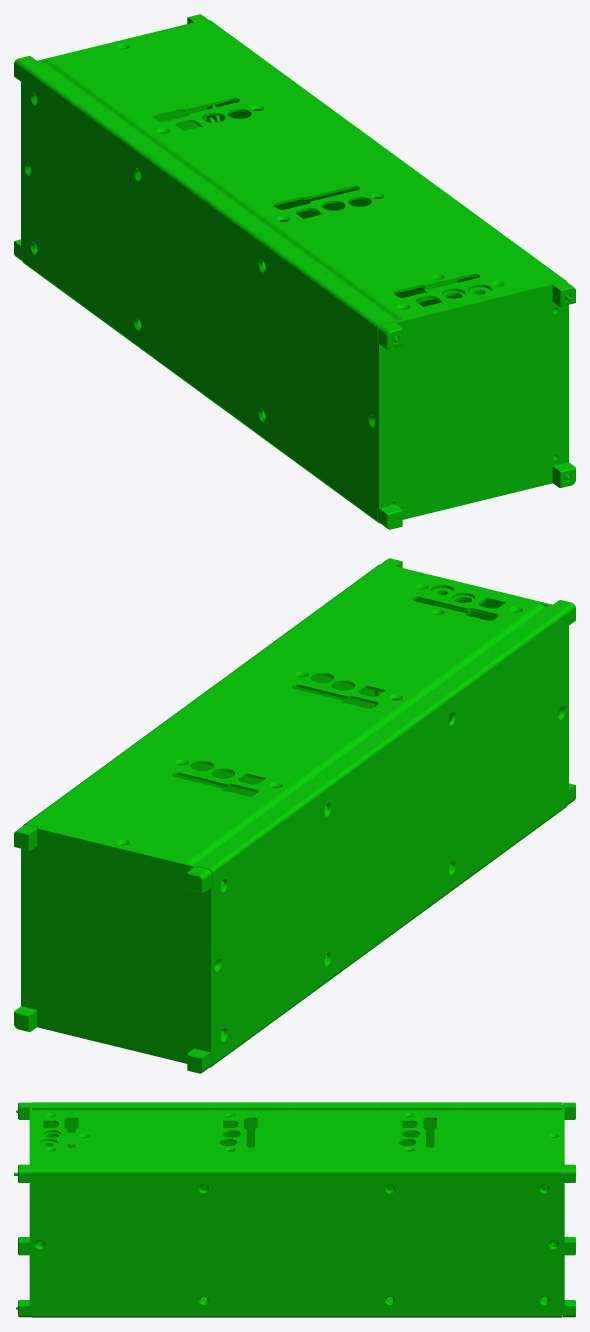
The model's file is cubesat.obj.
3 views of the same model, one above another, from view 1: azimuth 30°, elevation 25°; view 2: azimuth 150°, elevation 25°; view 3: azimuth 270°, elevation 25° (orthographic). The views are drawn at different scales.
Parts seen in each view (by area): view 1: Untitled; view 2: Untitled; view 3: Untitled.
Part boxes in pixels (box(x1,y1,x2,y2)): Untitled: box(14, 14, 575, 529); Untitled: box(14, 558, 575, 1073); Untitled: box(14, 1102, 575, 1317).
Bounding box in the file's own units: 0.1 × 0.1 × 0.343.
